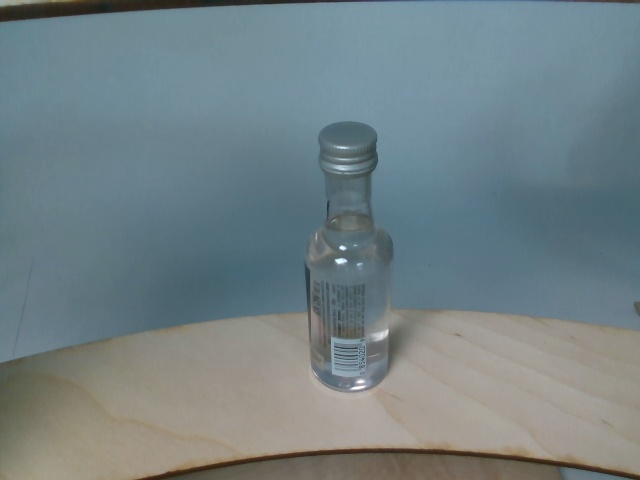gin: (307, 121, 394, 393)
